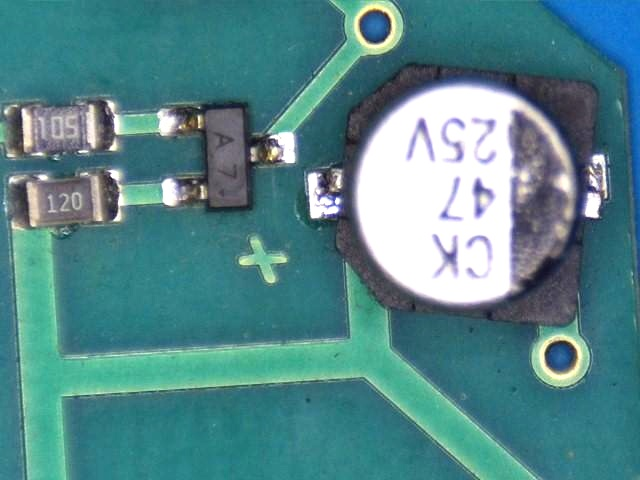pcb_defect: (307, 64, 608, 328)
